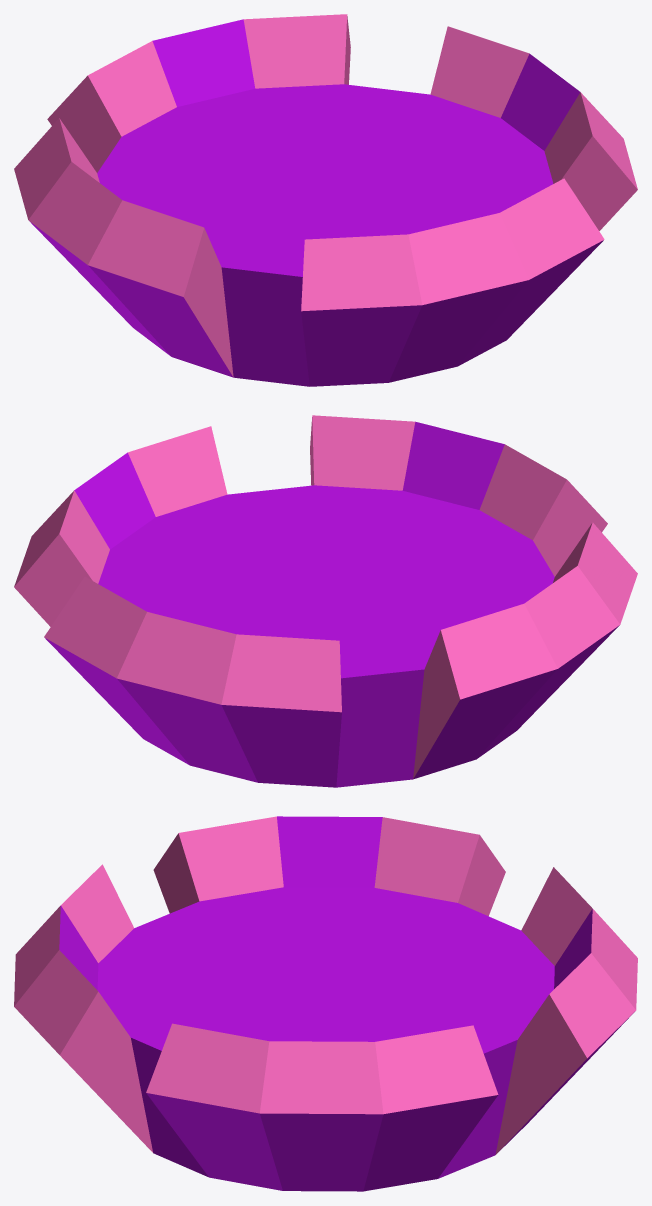
The model's file is Final_Stage_Model 1.fbx.
3 views of the same model, one above another, from view 1: azimuth 30°, elevation 25°; view 2: azimuth 150°, elevation 25°; view 3: azimuth 270°, elevation 25° (orthographic).
Parts seen in each view (by area): view 1: Arena_Model; view 2: Arena_Model; view 3: Arena_Model.
Boxes of the visible parts, x1,y1,x2,y2 form: Arena_Model: (14, 14, 637, 386); Arena_Model: (14, 415, 637, 787); Arena_Model: (14, 816, 637, 1191).
Bounding box in the file's own units: 1770 × 553 × 1770.
